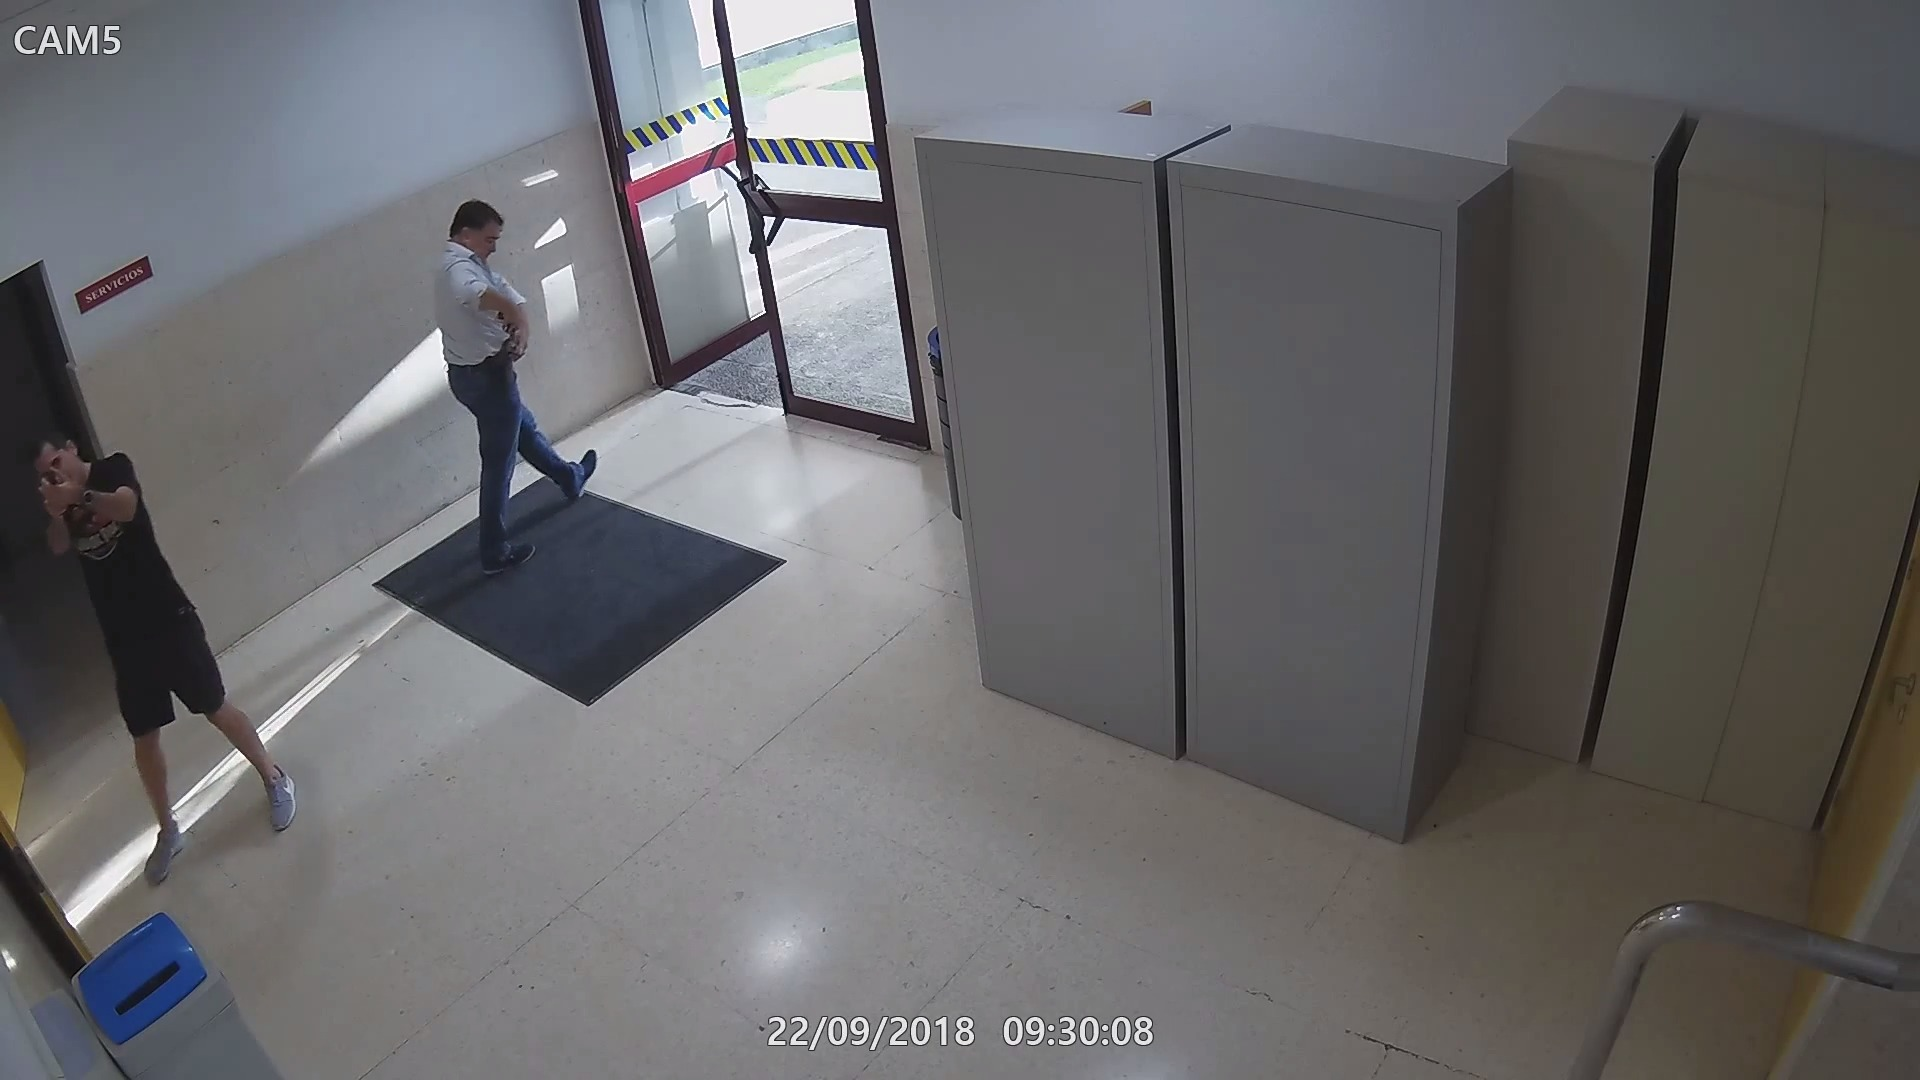Handgun: (34, 462, 71, 514), (501, 320, 527, 375)
